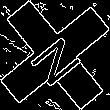N_NE: (22, 23, 88, 87)
